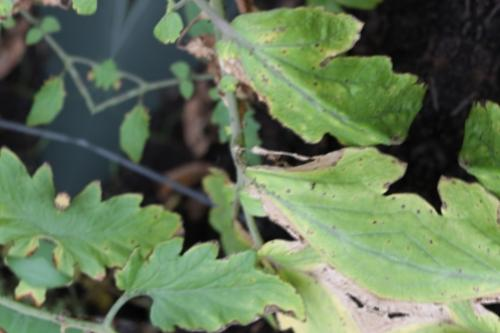Tomato Early blight leaf: (197, 0, 444, 174), (213, 105, 428, 301), (97, 203, 327, 333)
